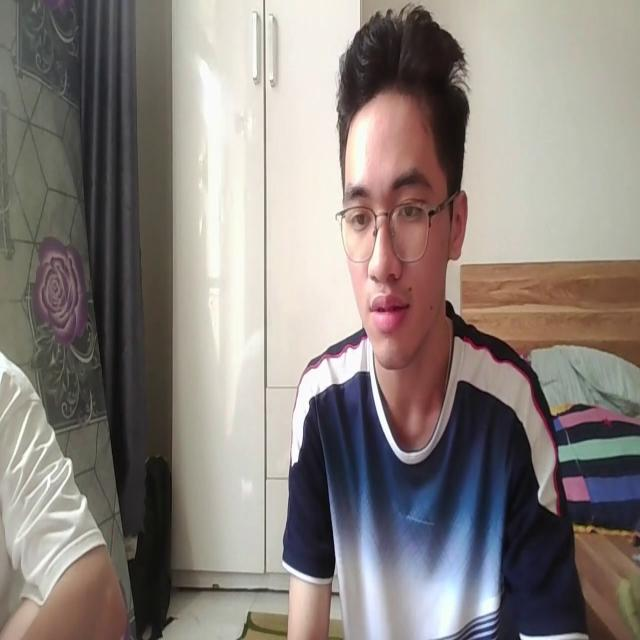extra_person: (0, 342, 128, 640)
student: (283, 2, 587, 640)
